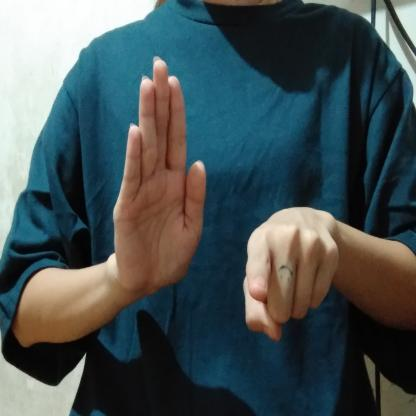stop: (109, 52, 345, 350)
